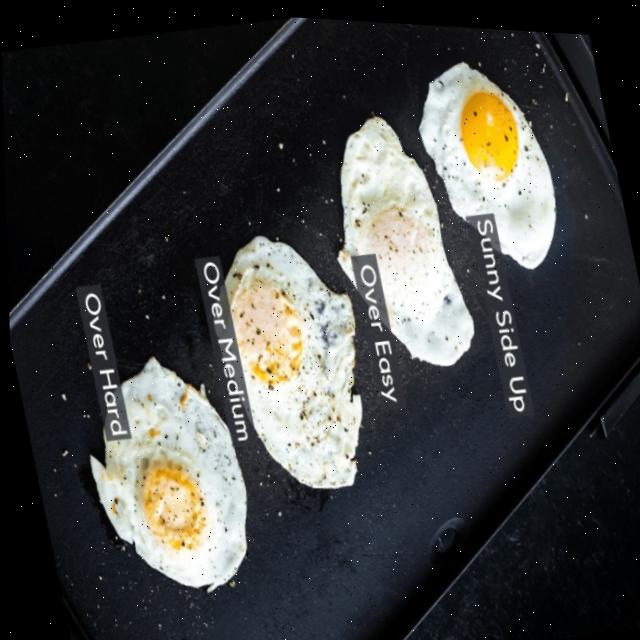Egg: (86, 355, 242, 588), (222, 232, 359, 485), (336, 113, 471, 360), (418, 56, 553, 261)
